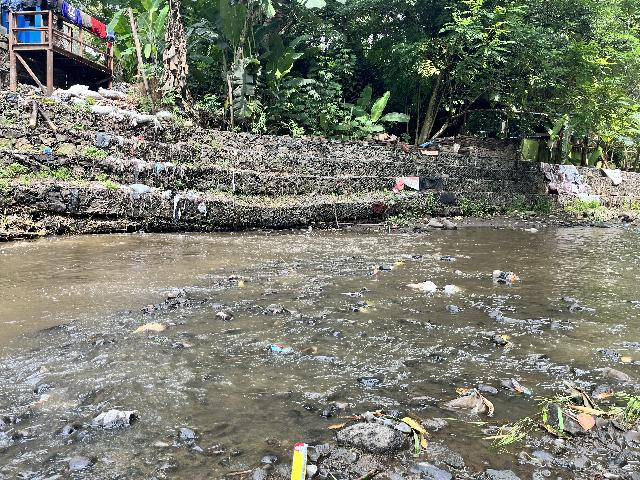Sampah Anorganik: (442, 389, 492, 414), (488, 266, 524, 288), (290, 442, 310, 480), (507, 376, 531, 393), (265, 342, 295, 355), (409, 281, 437, 292), (442, 285, 462, 295), (341, 292, 364, 298), (393, 259, 406, 267), (307, 277, 320, 282)
Sampah Organik: (538, 381, 640, 438), (335, 409, 431, 457), (1, 395, 58, 409), (129, 321, 166, 334), (497, 334, 518, 352), (354, 300, 377, 313), (224, 469, 252, 476), (299, 346, 320, 354), (618, 353, 633, 364), (270, 307, 286, 314), (139, 305, 157, 310), (237, 279, 245, 288), (289, 268, 296, 273), (374, 268, 377, 273)
